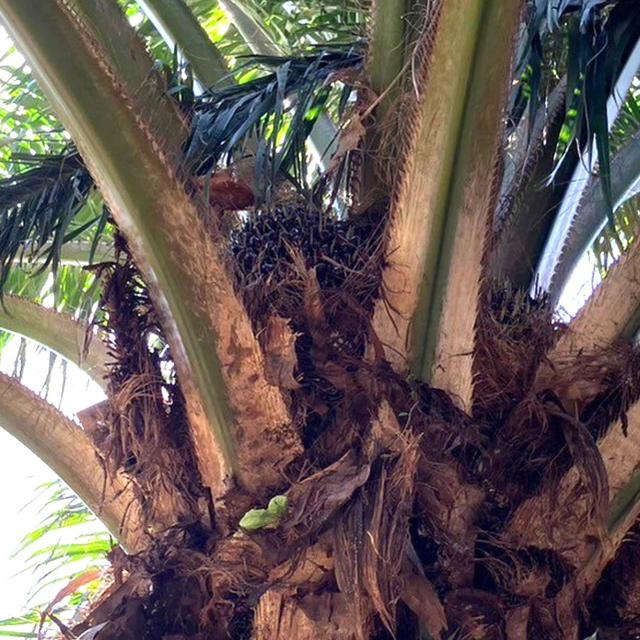ripe: (225, 194, 365, 370)
